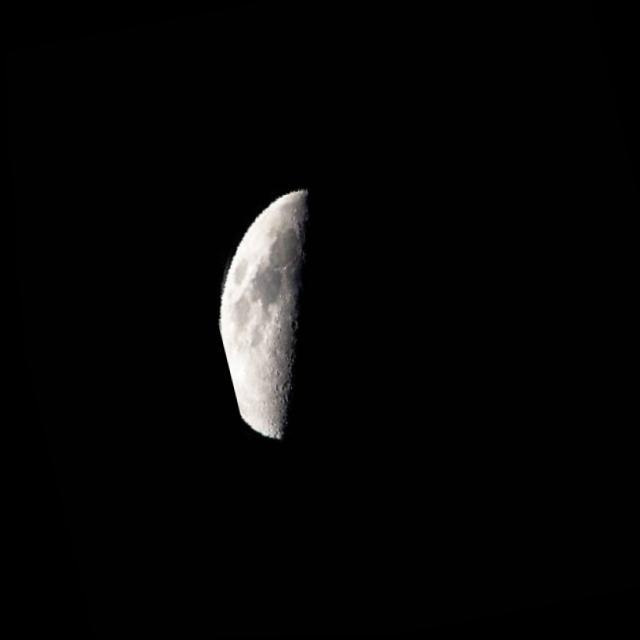moon: (173, 120, 437, 450)
